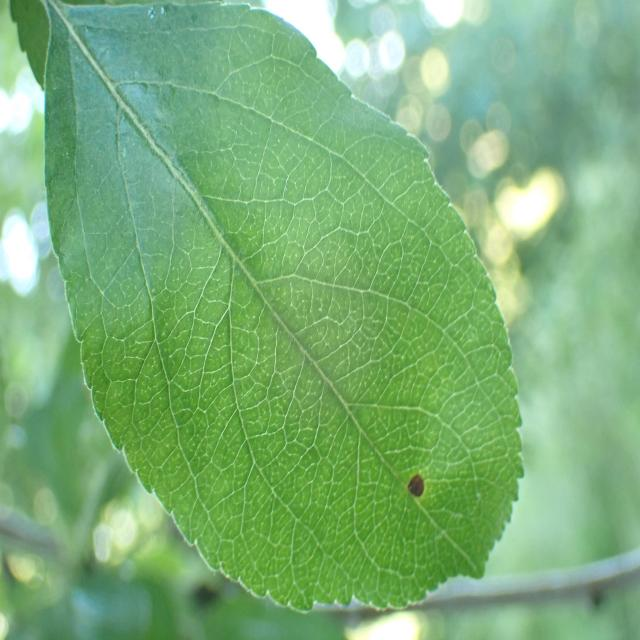Black Rot: (395, 464, 442, 521)
